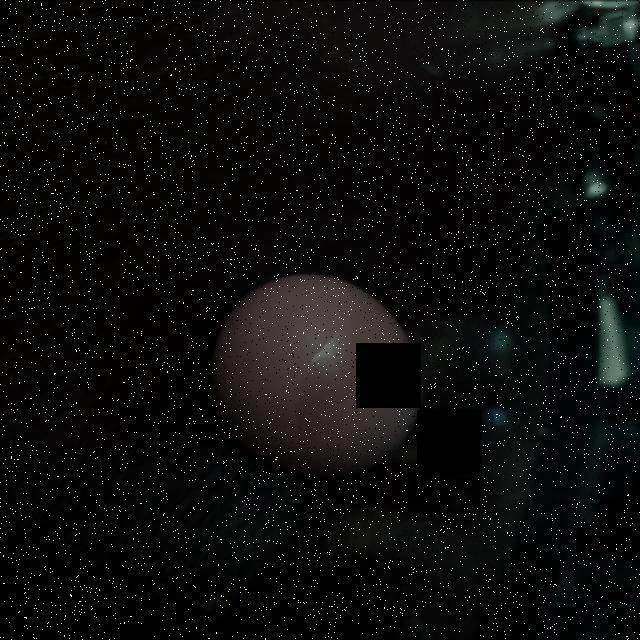egg: (206, 265, 426, 489)
